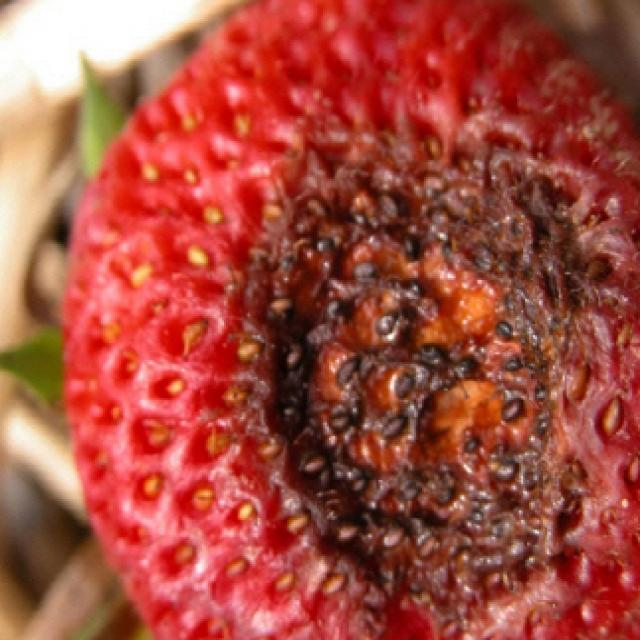Anthracnose Fruit Rot: (204, 92, 640, 640)
